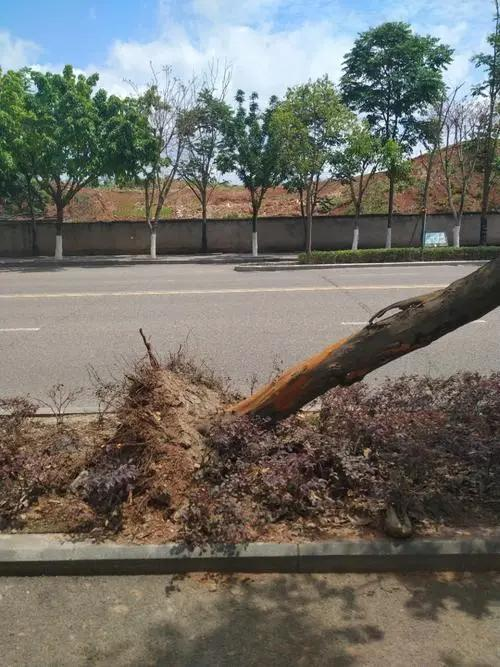Downstairs: (187, 250, 500, 460)
